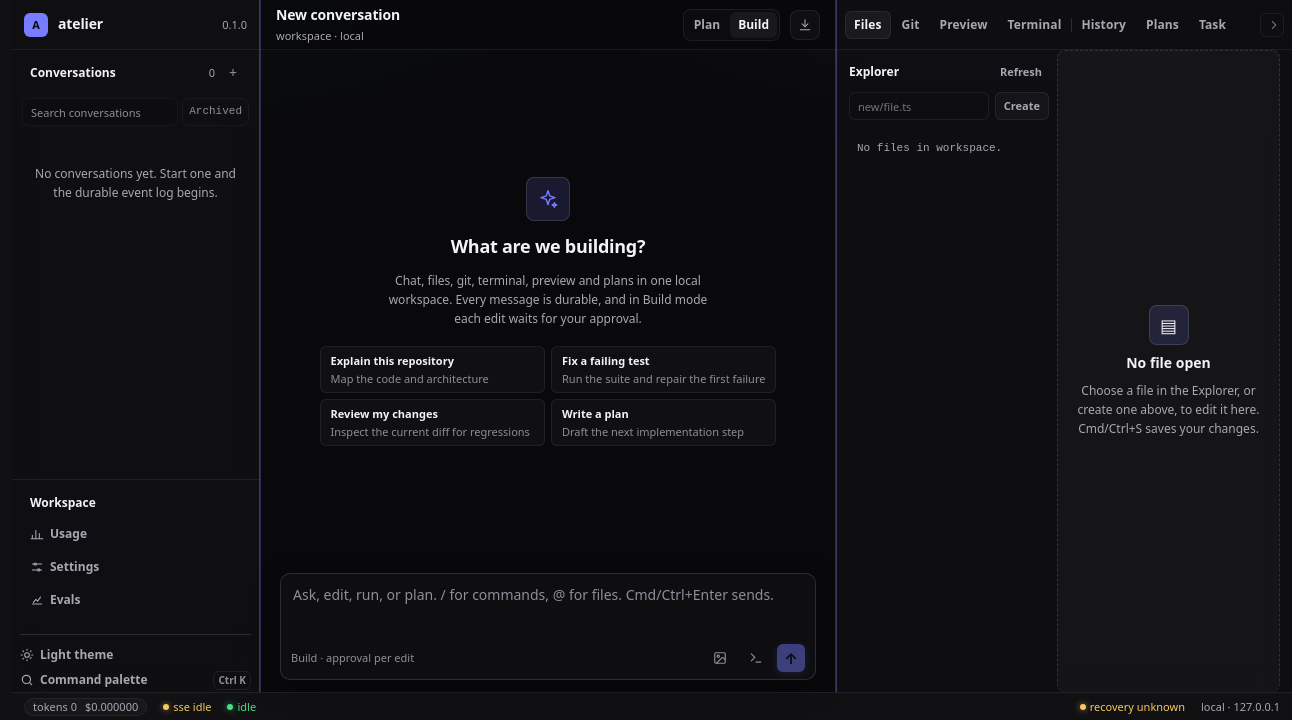
Test: plans panel › renders inside the Plans workspace tab
Expected: the heading "What are we building?" is shown, [451,233,645,259]
Click the tab with test id "tab-plans" at {"x": 1162, "y": 24}, box [1137,10,1188,38]
(page scrolled)
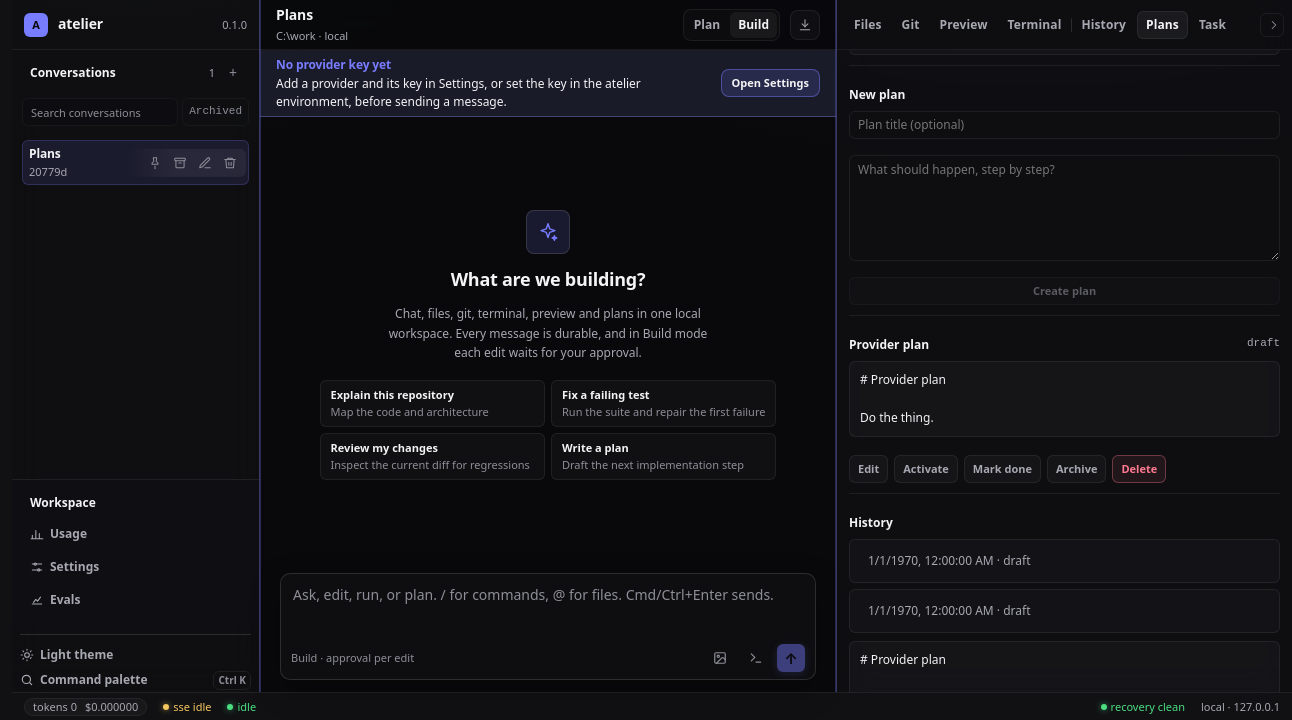
Expected: the element with test id "plans-panel" is shown, [849,50,1280,692]
